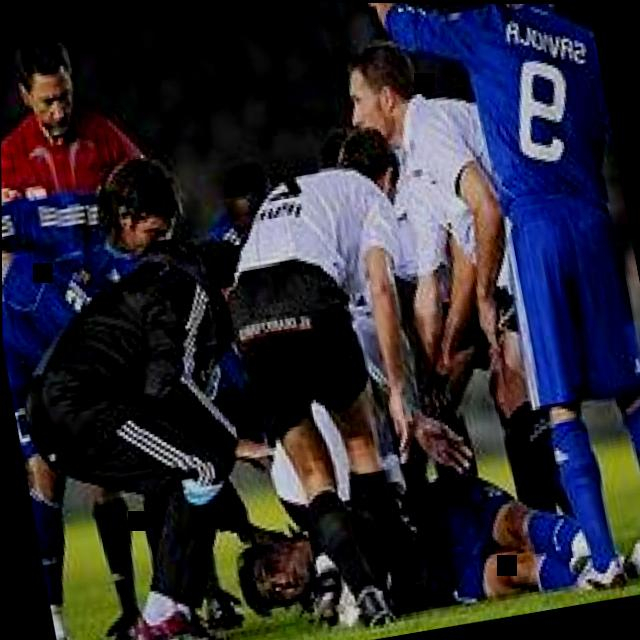Fall-Detected: (217, 411, 640, 640)
